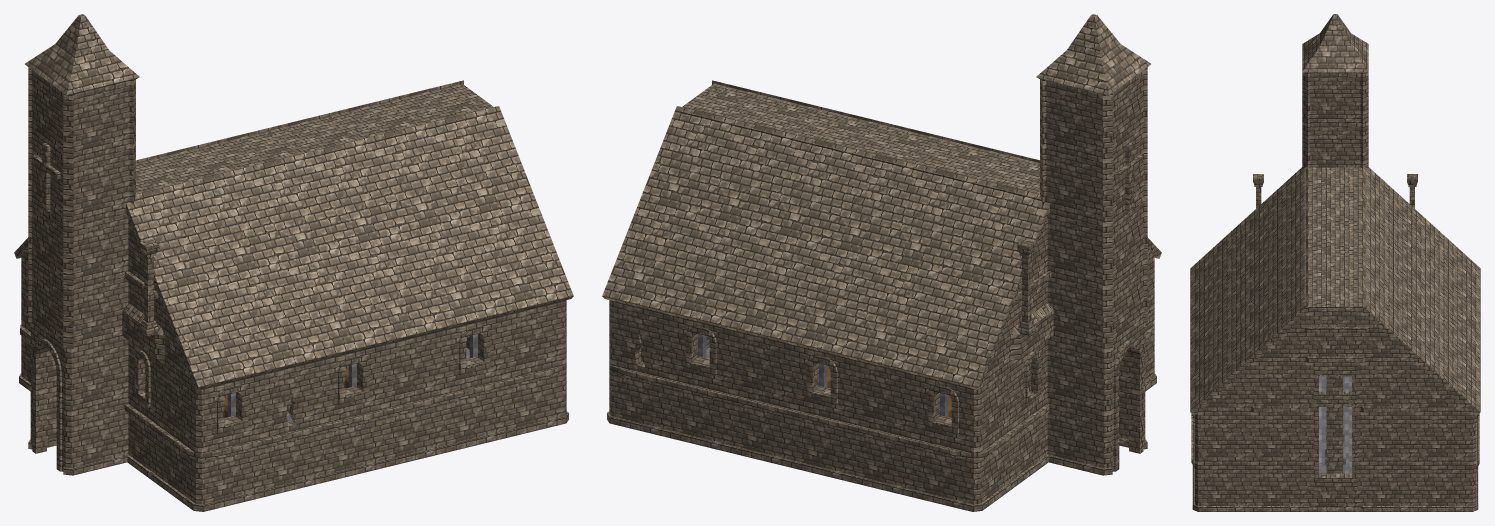
Rendered from church.fbx.
3 views of the same model, side by side, from view 1: azimuth 30°, elevation 25°; view 2: azimuth 150°, elevation 25°; view 3: azimuth 270°, elevation 25° (orthographic). The views are drawn at different scales.
Parts seen in each view (by area): view 1: mergedBlocks; view 2: mergedBlocks; view 3: mergedBlocks.
Boxes of the visible parts, bbox=[...] form: mergedBlocks: bbox=[14, 14, 573, 511]; mergedBlocks: bbox=[602, 14, 1161, 511]; mergedBlocks: bbox=[1190, 14, 1480, 511].
Size of the model in its own units: 72.28 by 69.06 by 52.83.
